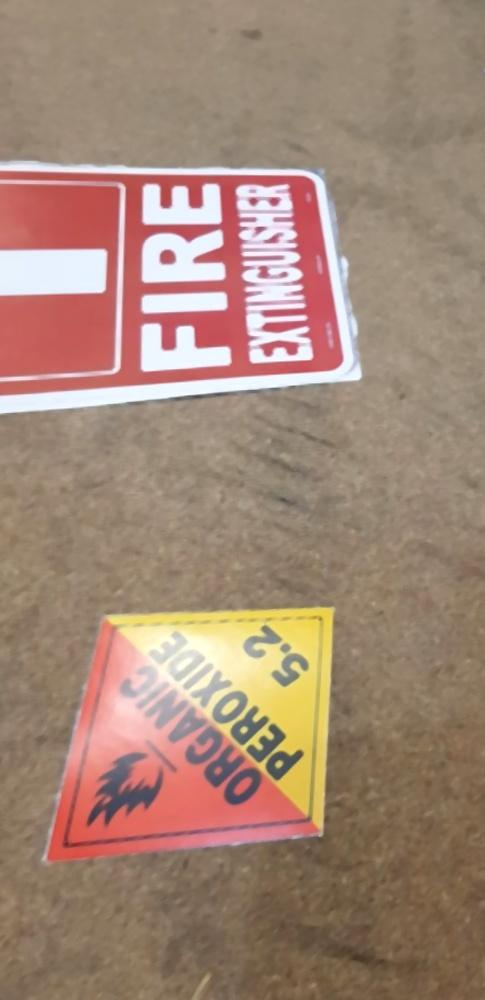organic-peroxide: (41, 587, 340, 890)
